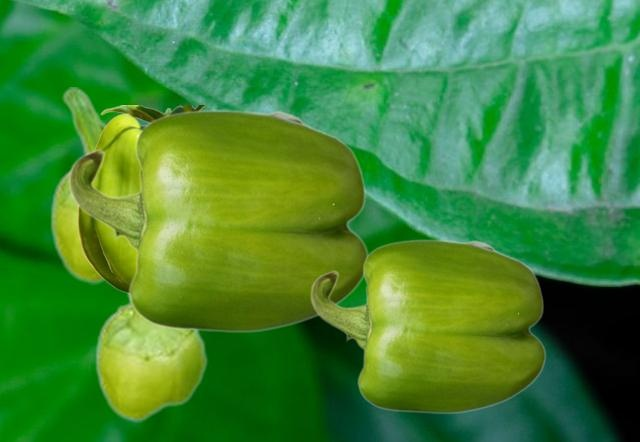bell_pepper: (68, 109, 368, 332), (310, 239, 545, 413), (77, 105, 206, 293), (94, 293, 207, 421), (49, 87, 106, 283)
